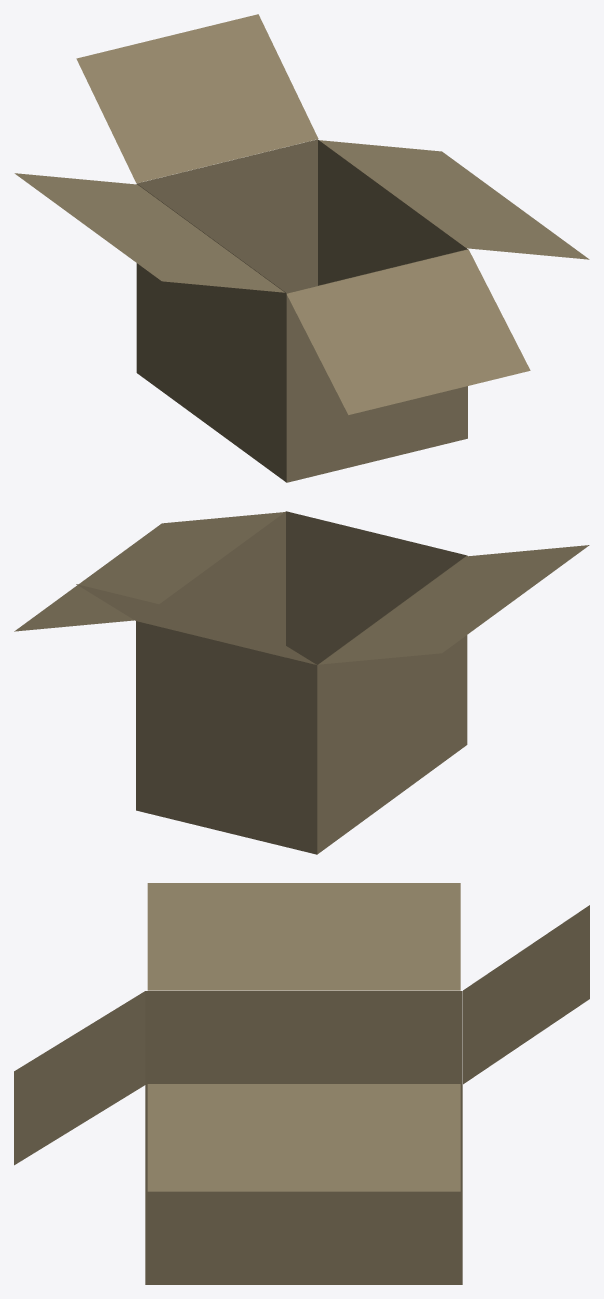
The model's file is Box open.fbx.
3 views of the same model, one above another, from view 1: azimuth 30°, elevation 25°; view 2: azimuth 150°, elevation 25°; view 3: azimuth 270°, elevation 25° (orthographic). The views are drawn at different scales.
Visible parts, largest first — view 1: Box_Open_001_pCube2; view 2: Box_Open_001_pCube2; view 3: Box_Open_001_pCube2.
Boxes of the visible parts, x1,y1,x2,y2 form: Box_Open_001_pCube2: (14, 14, 589, 482); Box_Open_001_pCube2: (14, 511, 589, 854); Box_Open_001_pCube2: (14, 883, 589, 1284).
Bounding box in the file's own units: 2.36 × 1.43 × 2.6.
